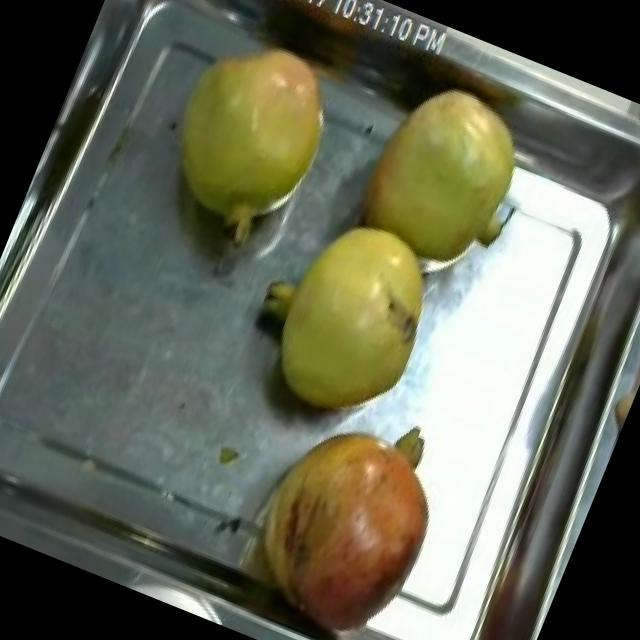fruit: (222, 180, 468, 451), (124, 6, 368, 274), (221, 386, 471, 640), (338, 59, 558, 294), (597, 366, 640, 447)
